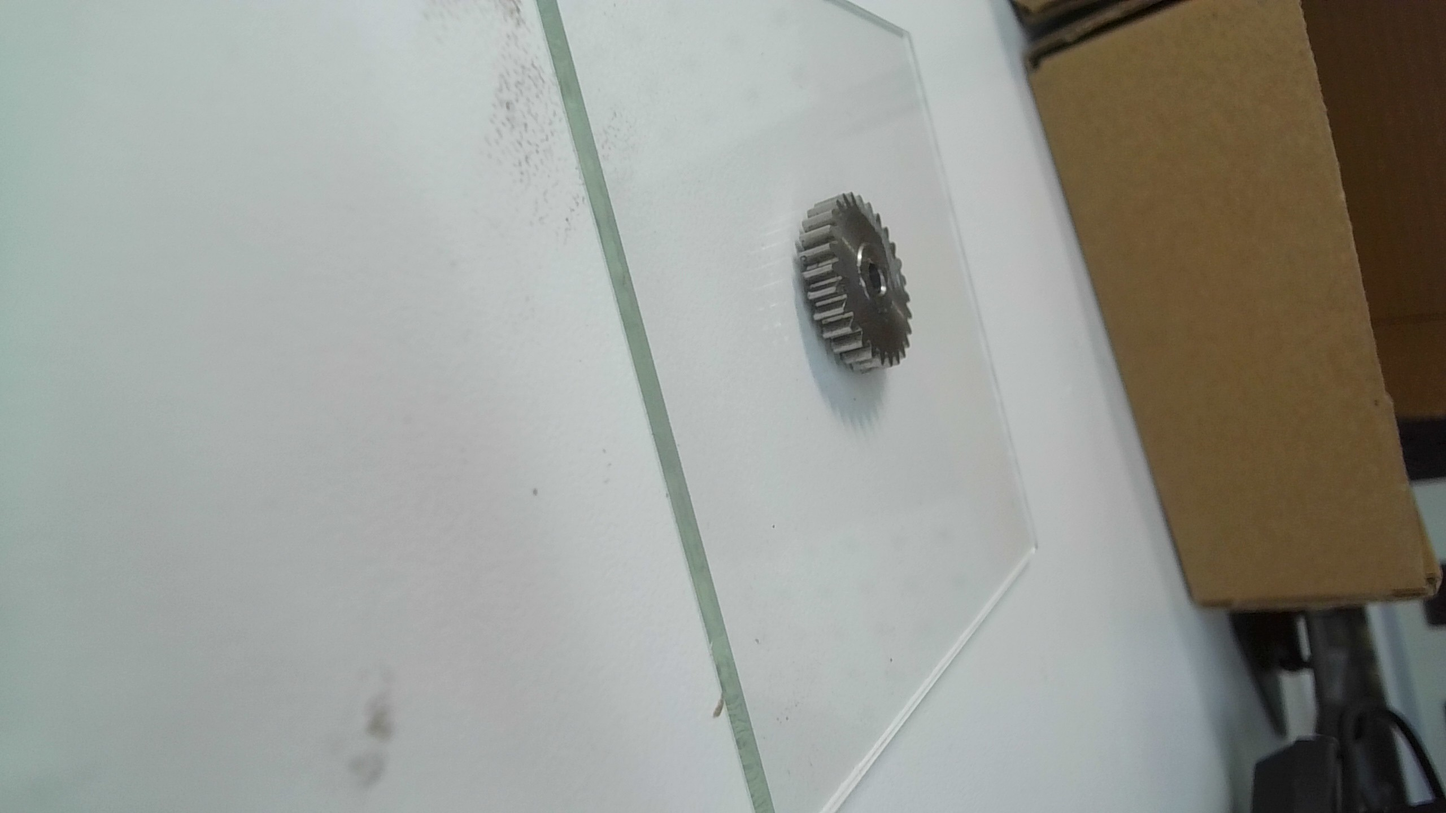gear: (792, 188, 918, 378)
